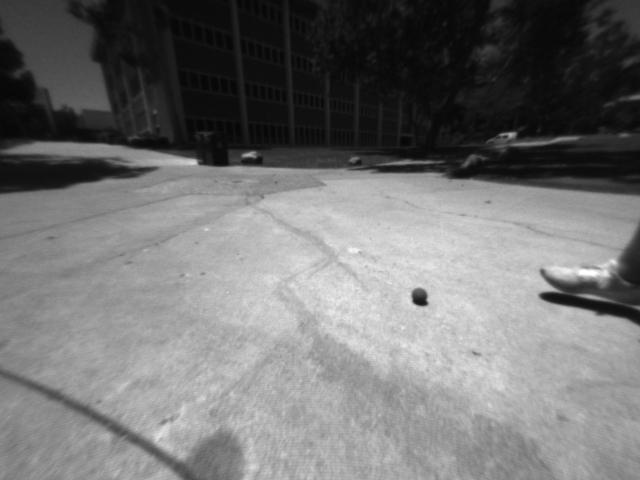dogtoy: (407, 281, 437, 310)
